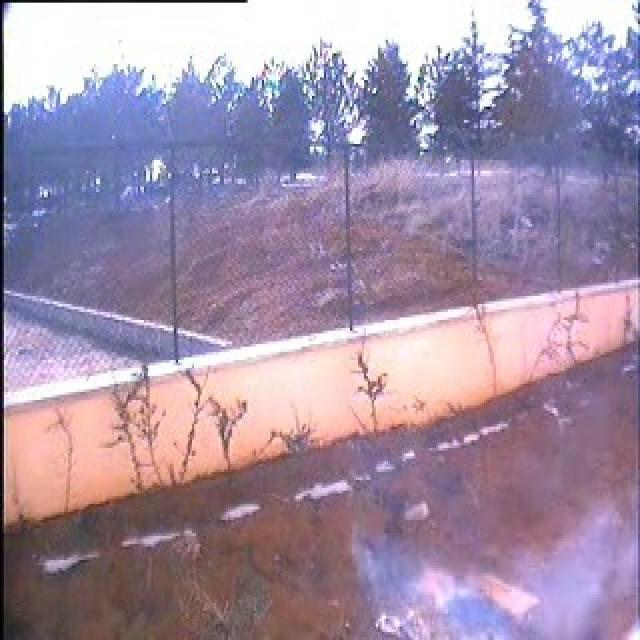Smoke: (354, 508, 640, 640)
